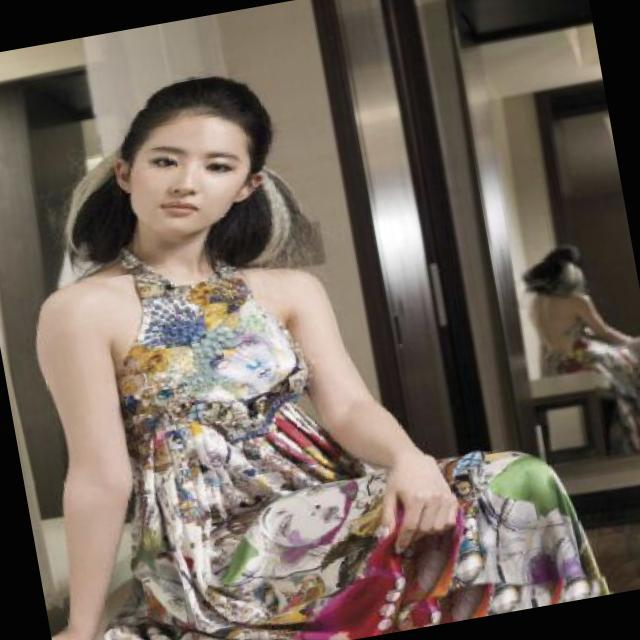Person: (17, 37, 471, 640)
